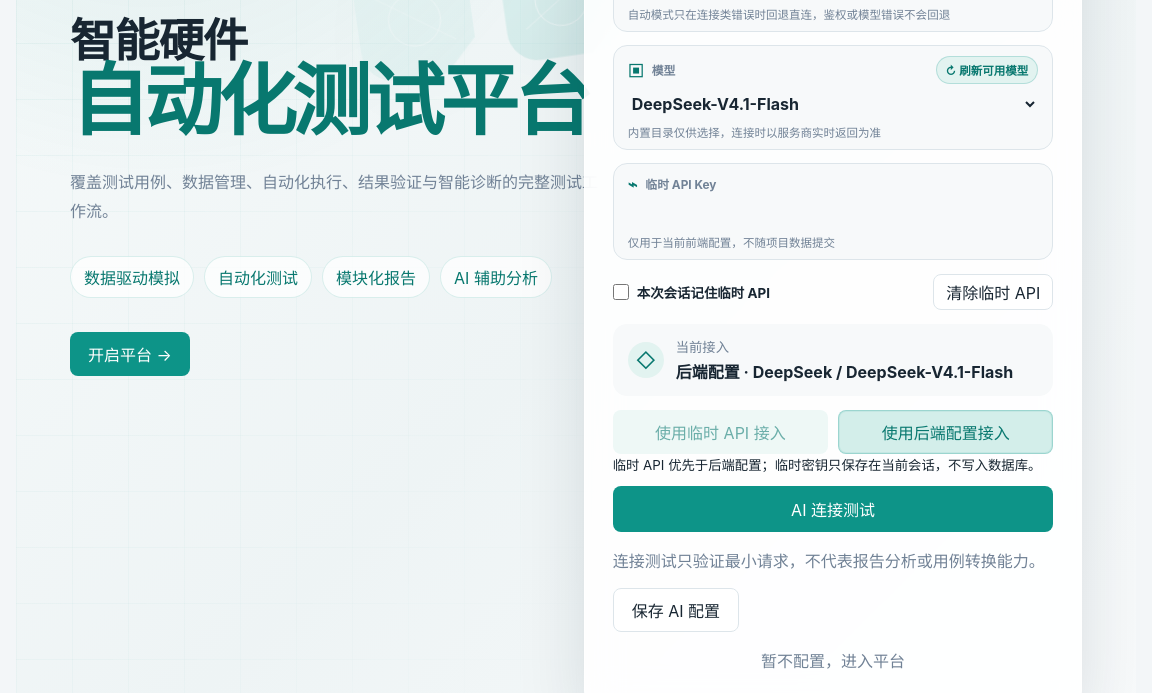
Scenario: 可以编辑产品版本名称和说明
The image size is (1152, 693).
(page scrolled)
Click the button "开启平台 →".
click(130, 354)  # box [70,332,190,376]
(page scrolled)
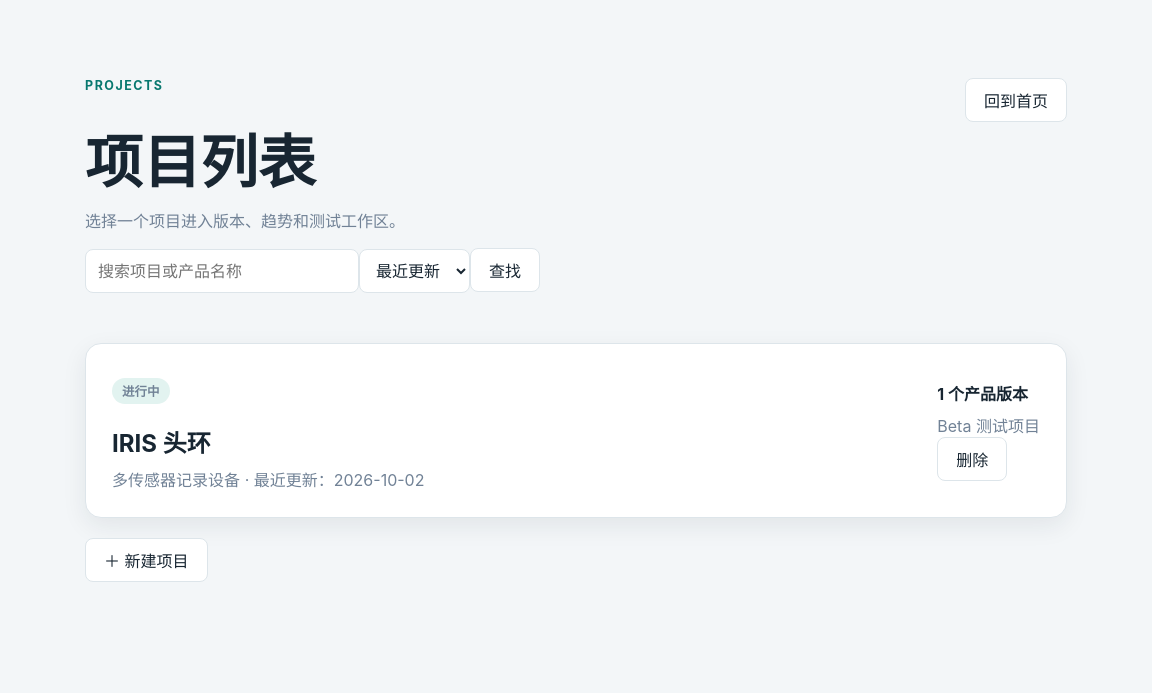
Click the button "进行中 IRIS 头环 多传感器记录设备 · 最近更新：2026-10-02 1 个产品版本 Beta 测试项目 删除".
click(576, 431)  # box [85,343,1067,518]
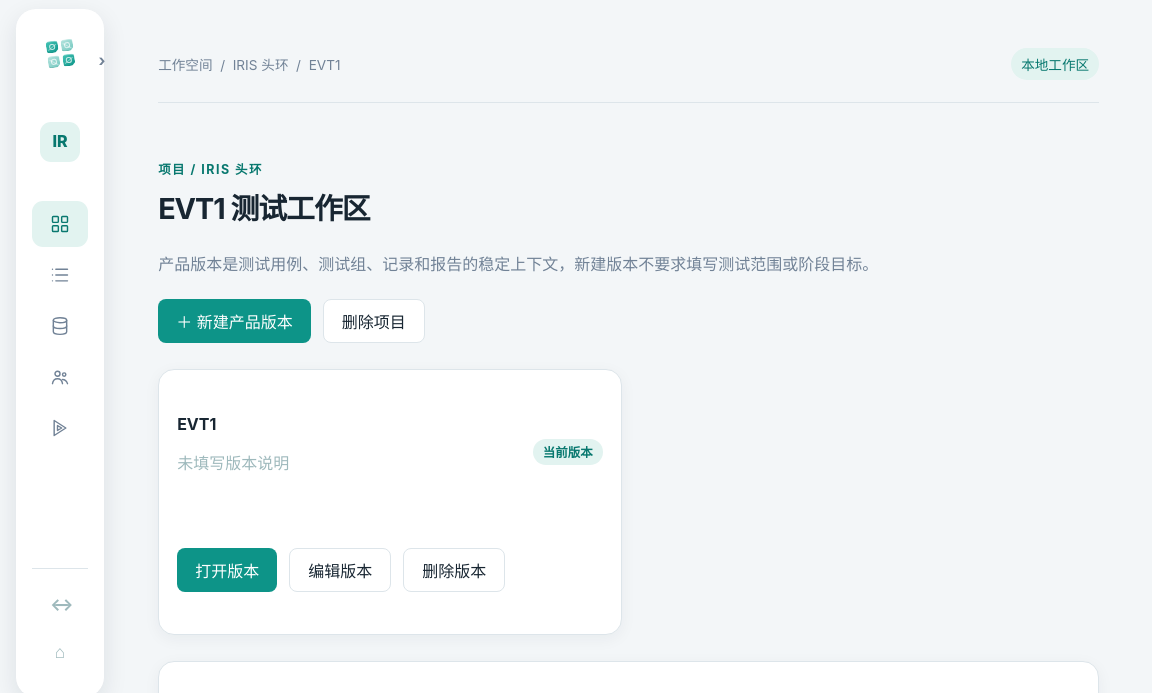
Result: the heading "EVT1 测试工作区" is shown at [158,191,370,226]
Click the button "编辑版本".
click(340, 570)  # box [289,548,391,592]
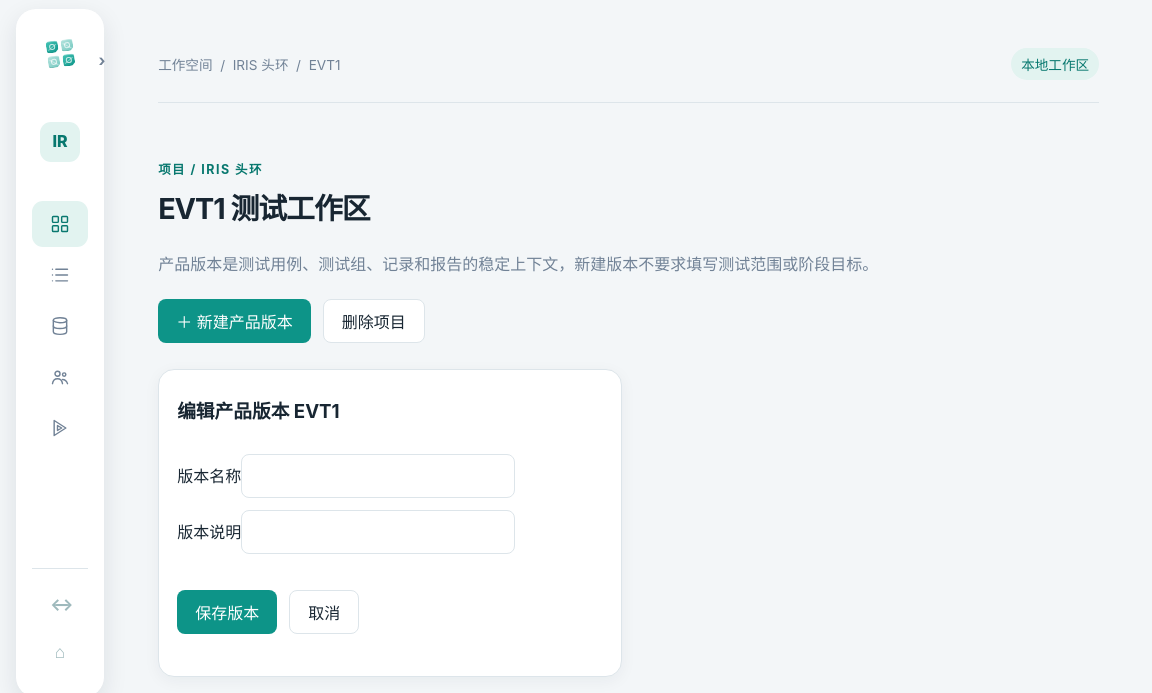
Type "工程验证一版" into the field named "版本名称 EVT1".
click(378, 476); type("工程验证一版")  # box [241,454,515,498]
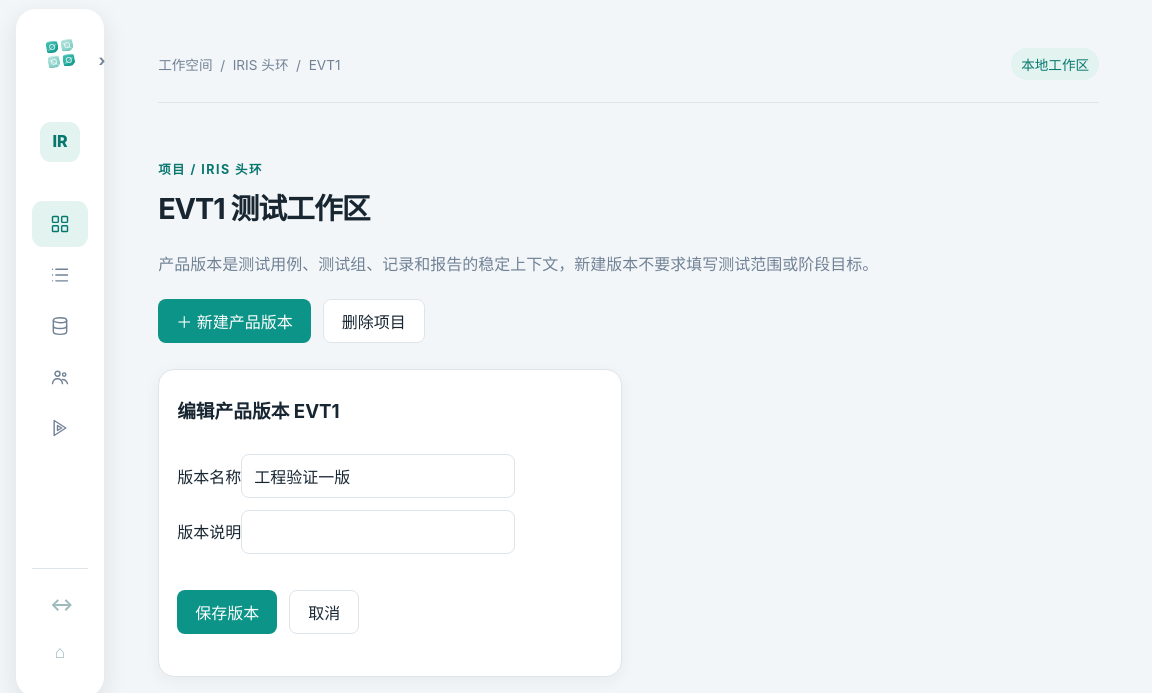
Click the button "保存版本".
click(227, 612)  # box [177,590,277,634]
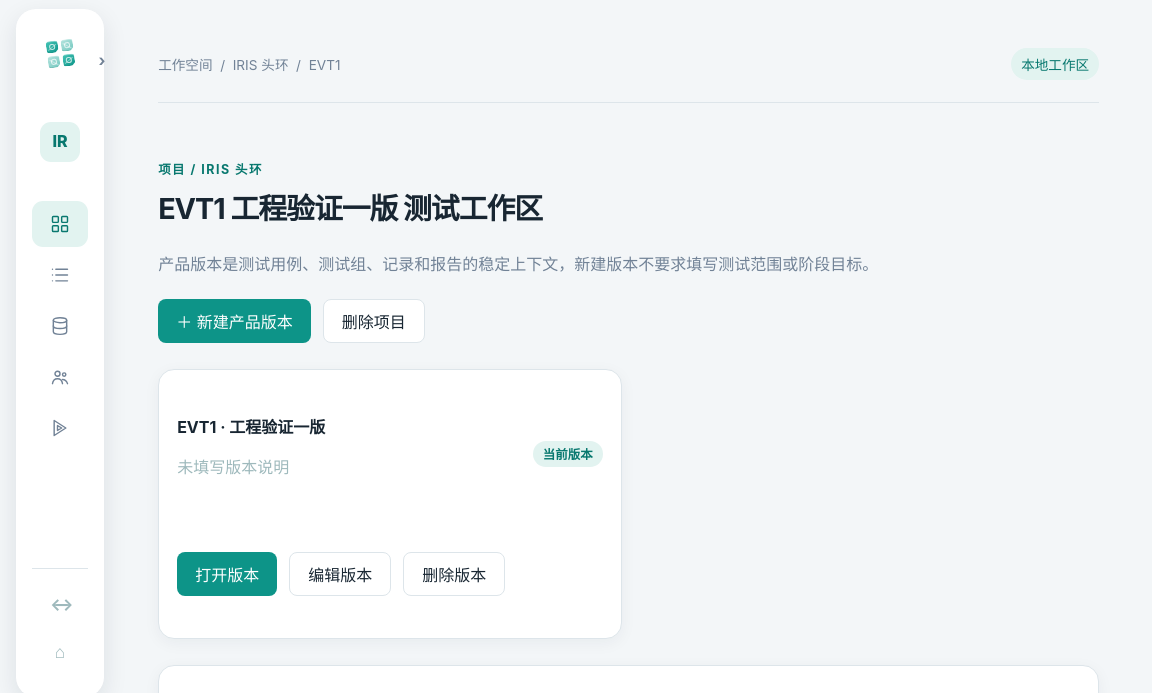
Result: the text "EVT1 · 工程验证一版" is shown at [177,417,325,437]
Result: the heading "EVT1 工程验证一版 测试工作区" is shown at [158,191,542,226]
